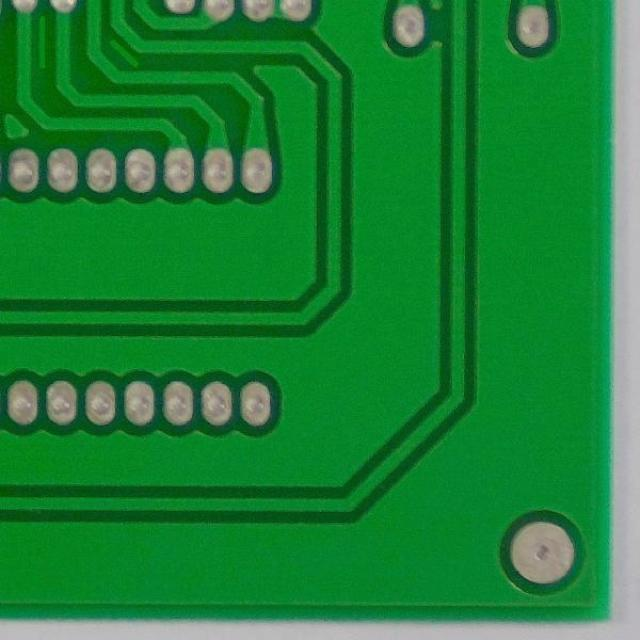Spurious_Cooper: (104, 33, 146, 72), (32, 12, 52, 72)
